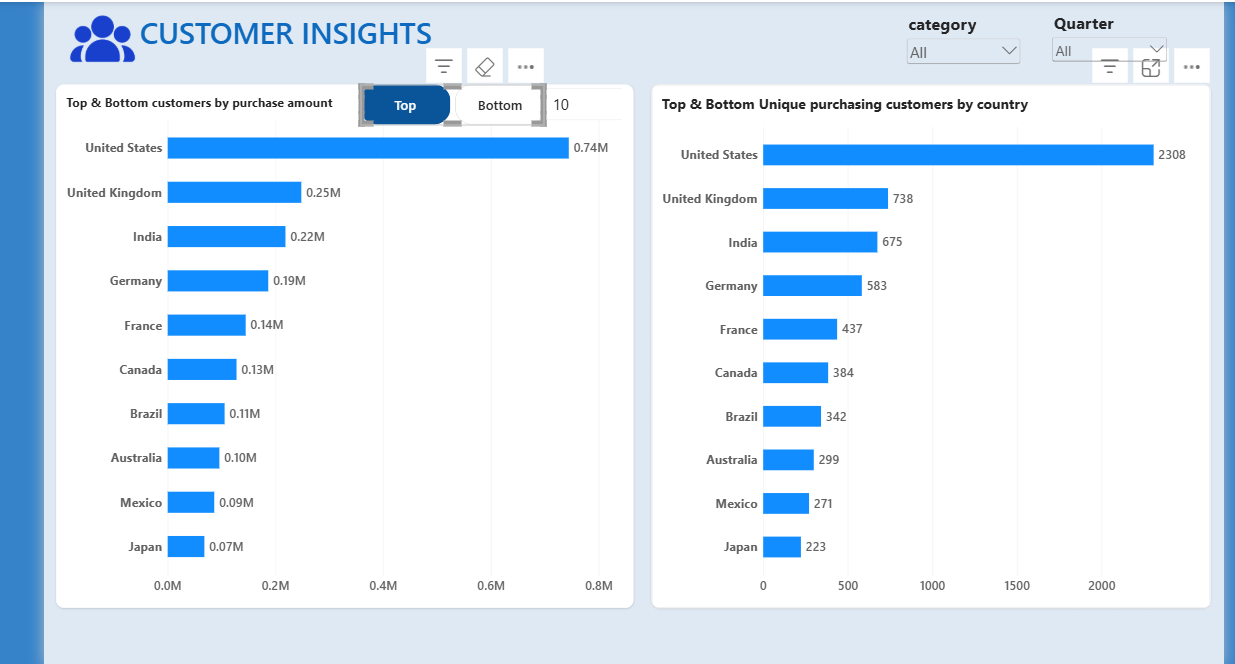

This screenshot's page, from the dashboard's own definition file:
{"tool":"powerbi","page":{"name":"Customer insights","canvas":[1920,1080],"ordinal":1},"visuals":[{"type":"clusteredBarChart","title":"Top & Bottom   customers by purchase amount","fields":{"Category":["customers.country"],"Y":["_Measures Table.Customer purchase amount"]},"box":[19.5,134.2,939.3,851.5],"z":0},{"type":"advancedSlicerVisual","fields":{"Values":["Top/Bottom.Value"]},"box":[514.8,134.2,300.1,65.9],"z":1000},{"type":"slicer","fields":{"Values":["Parameter.Parameter"]},"box":[814.9,134.2,124.4,65.9],"z":2000},{"type":"clusteredBarChart","title":"Top & Bottom Unique purchasing customers by country","fields":{"Category":["customers.country"],"Y":["_Measures Table.Unique purchasing customers"]},"box":[988.1,134.2,910.1,851.5],"z":3000},{"type":"slicer","fields":{"Values":["Dim_product.category"]},"box":[1398.9,16.3,195,88.1],"z":4000},{"type":"slicer","fields":{"Values":["Dim_date.Quarter"]},"box":[1634.7,14.6,197.1,90.2],"z":5000},{"type":"textbox","box":[37.7,16.8,713,73.4],"z":6000},{"type":"image","box":[36.6,0,117.1,119.6],"z":7000}]}

Visuals, with their boxes on the page's 1920x1080 design canvas (x1, y1, x2, y2). These are canvas units, not pixel positions in the 1235x664 screenshot, which may show the page scaled, cropped or inside an application window:
"Top & Bottom   customers by purchase amount" clusteredBarChart: <bbox>20, 134, 959, 986</bbox>
advancedSlicerVisual - Top/Bottom.Value: <bbox>515, 134, 815, 200</bbox>
slicer - Parameter.Parameter: <bbox>815, 134, 939, 200</bbox>
"Top & Bottom Unique purchasing customers by country" clusteredBarChart: <bbox>988, 134, 1898, 986</bbox>
slicer - Dim_product.category: <bbox>1399, 16, 1594, 104</bbox>
slicer - Dim_date.Quarter: <bbox>1635, 15, 1832, 105</bbox>
textbox: <bbox>38, 17, 751, 90</bbox>
image: <bbox>37, 0, 154, 120</bbox>
